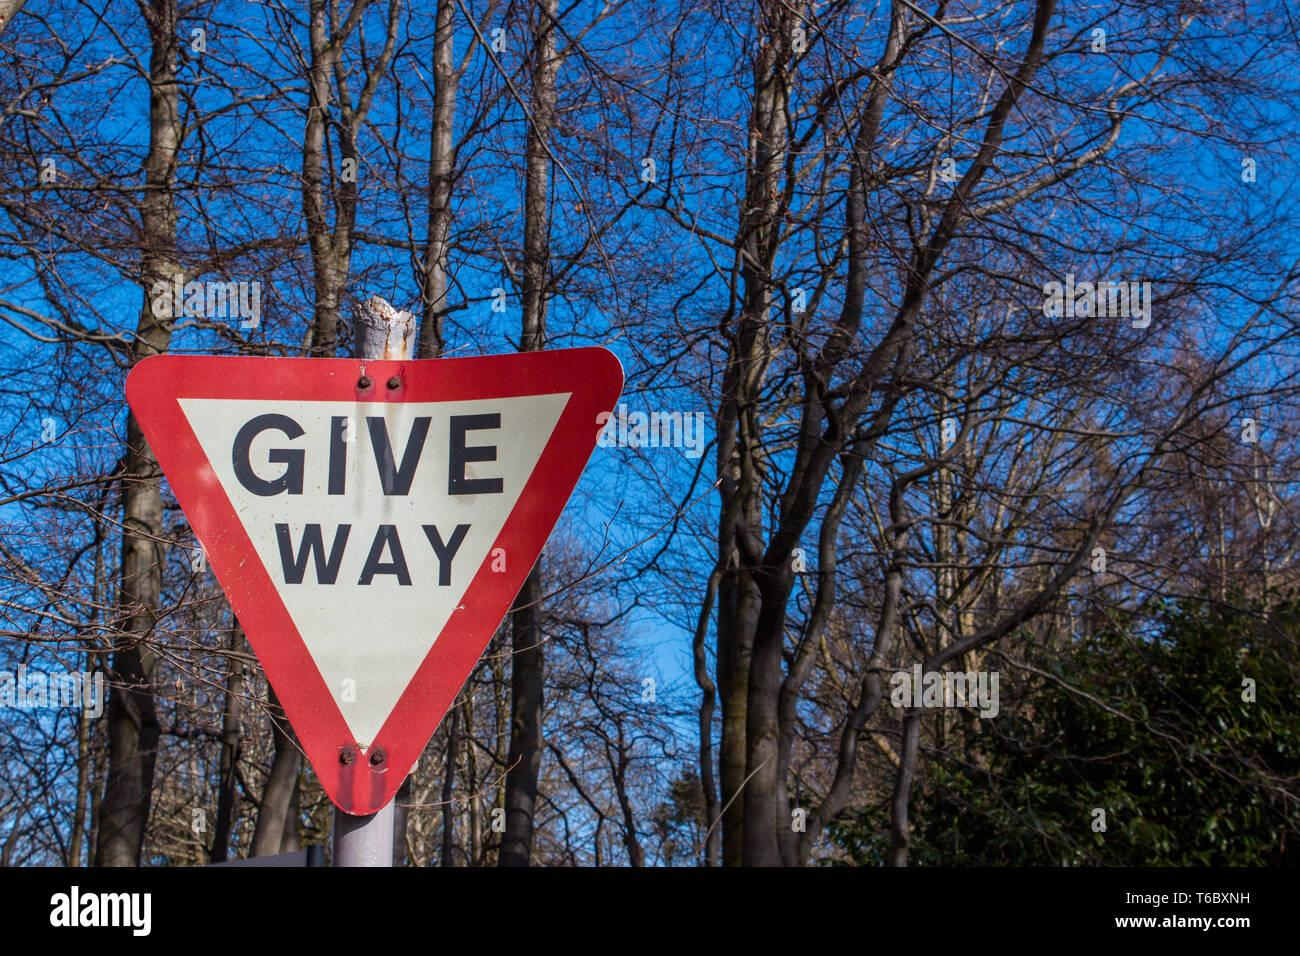give-way: (126, 354, 639, 812)
